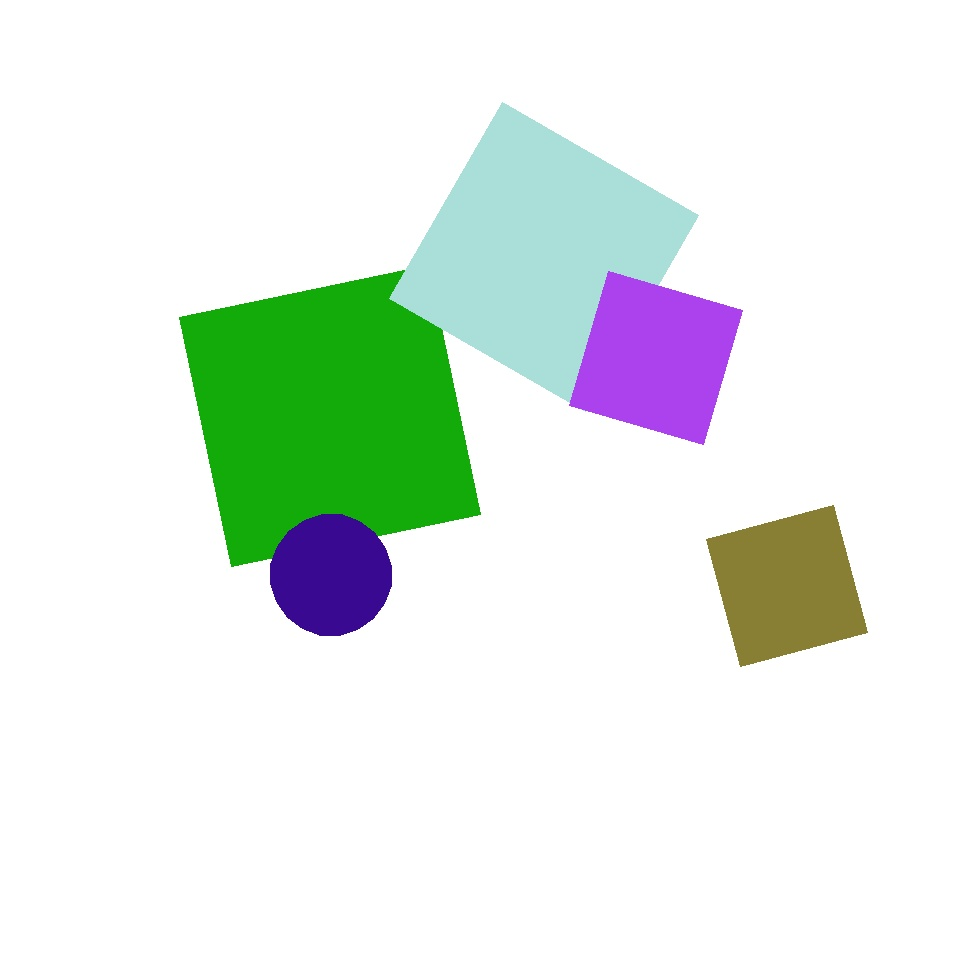circle: (634, 254, 904, 544), (403, 635, 590, 838)
square: (390, 102, 698, 412), (180, 266, 480, 566), (570, 272, 742, 444), (706, 506, 868, 666)
triangle: (270, 515, 392, 636)
